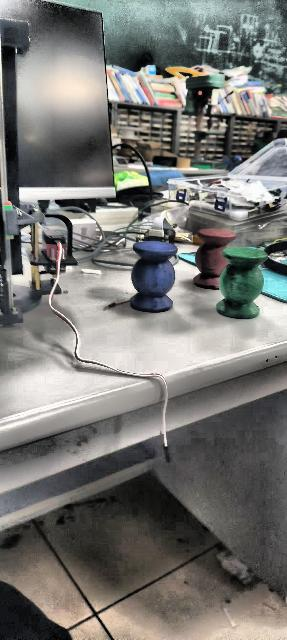blue: (130, 240, 178, 312)
green: (212, 238, 268, 326)
red: (193, 228, 234, 291)
